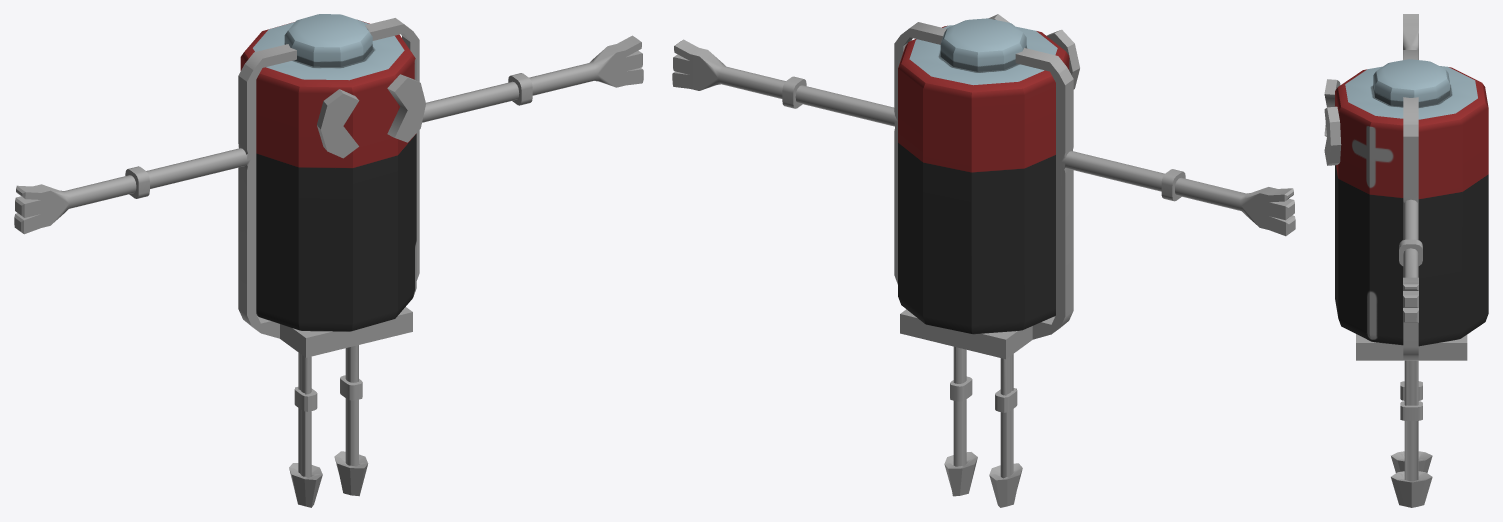
Rendered from M_BatteryRobot_OR.fbx.
The picture shows the model from 3 angles, left to right: view 1: azimuth 30°, elevation 25°; view 2: azimuth 150°, elevation 25°; view 3: azimuth 270°, elevation 25°; orthographic projection. The views are drawn at different scales.
Visible parts, largest first — view 1: Battery_Body, Legs, Eye_Right, Eye_Left; view 2: Battery_Body, Legs; view 3: Battery_Body, Legs, Eye_Left, Eye_Right.
Boxes of the visible parts, <box> form: Battery_Body: <box>240,14,416,331</box>; Legs: <box>14,18,643,507</box>; Eye_Right: <box>317,89,359,158</box>; Eye_Left: <box>387,74,425,142</box>; Battery_Body: <box>898,18,1069,334</box>; Legs: <box>672,22,1295,507</box>; Battery_Body: <box>1335,59,1488,346</box>; Legs: <box>1356,14,1467,507</box>; Eye_Left: <box>1324,106,1341,165</box>; Eye_Right: <box>1324,79,1340,136</box>.
Bounding box in the file's own units: 6.27 × 4.54 × 1.59.
Materials: 2 (1 with a texture image).
